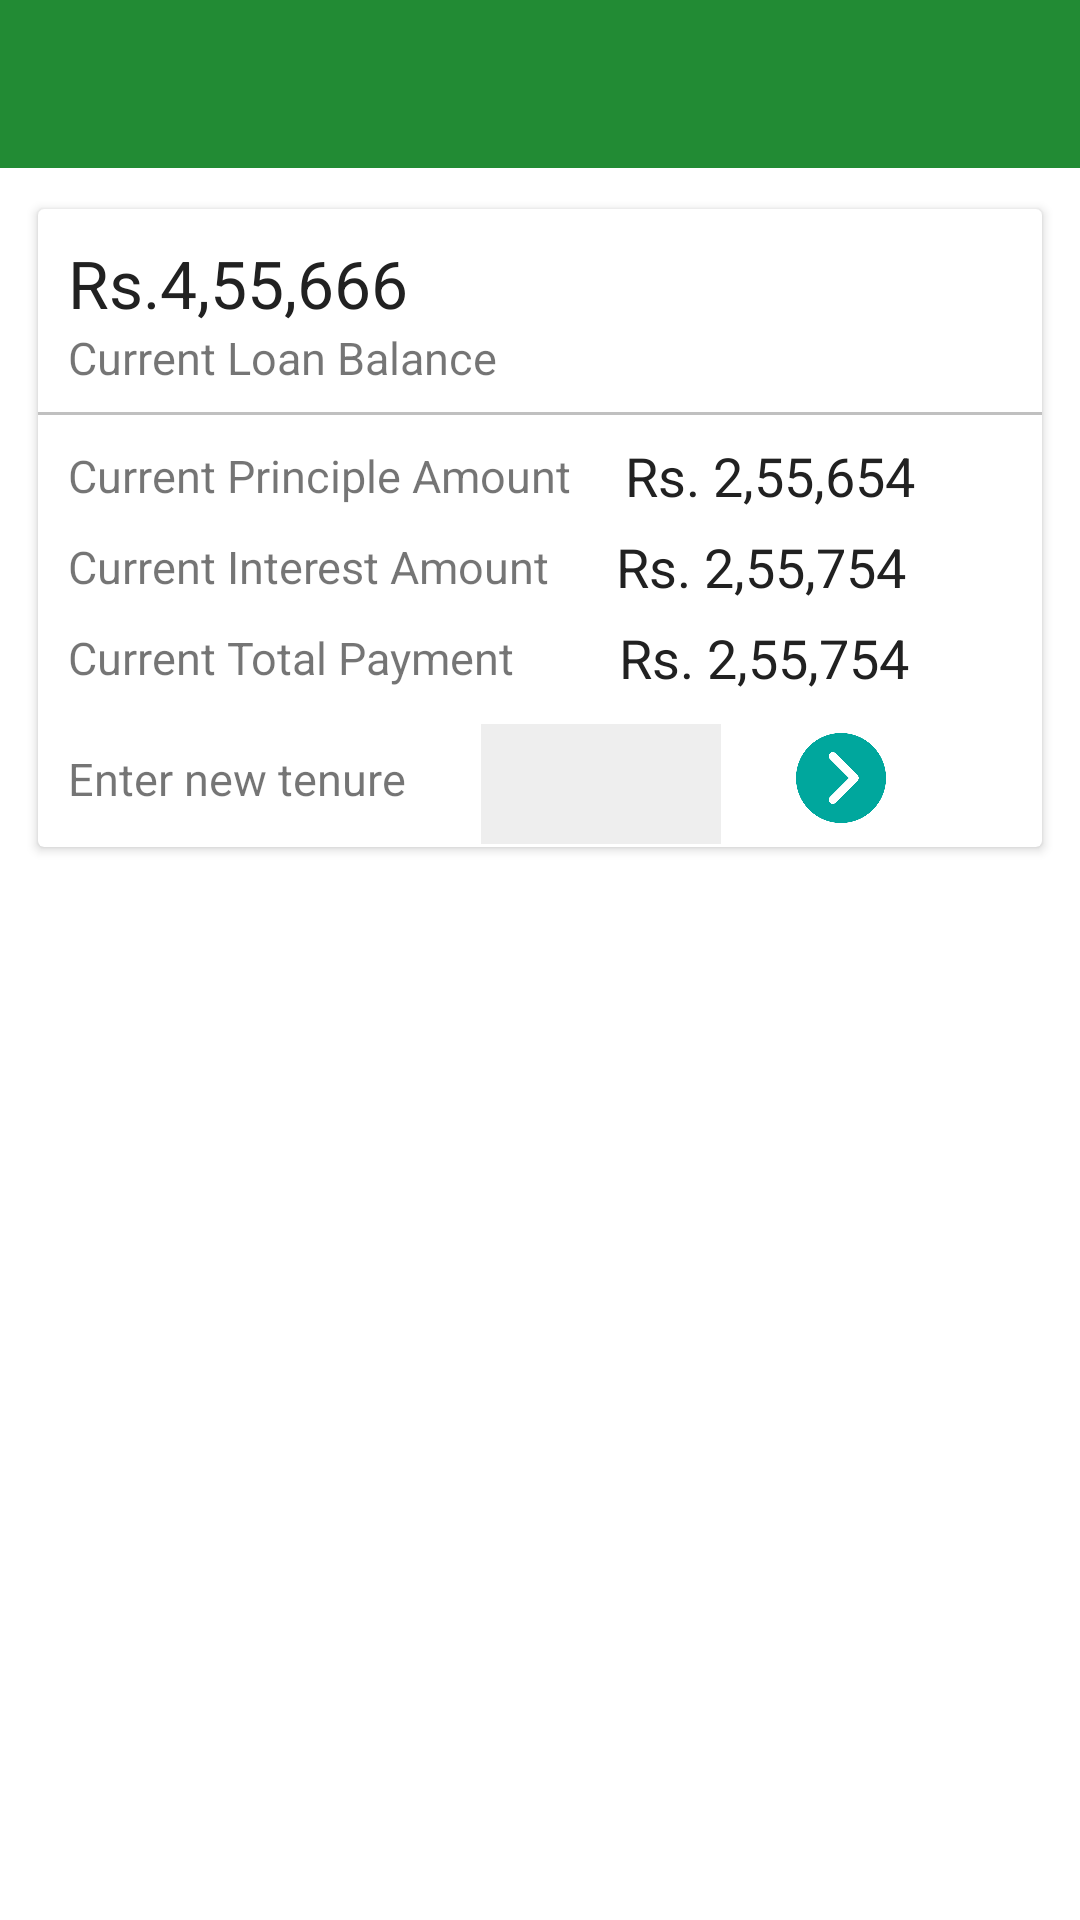

Icon bounding boxes for this 1080 x 1920 phone screenshot, format (x1, y1, x2, y2):
rightarrow: (796, 733, 886, 823)
